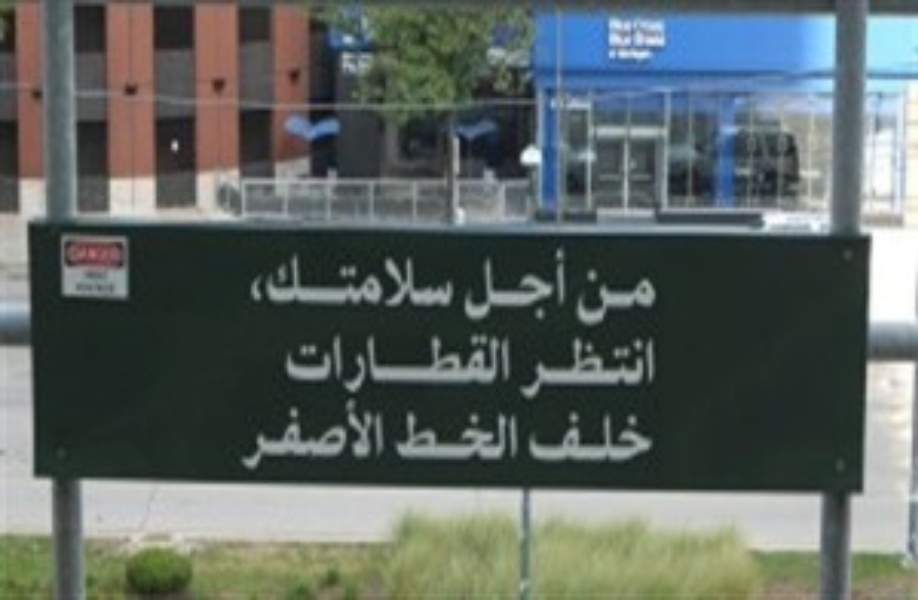text: (257, 392, 272, 475), (273, 392, 288, 475), (289, 392, 304, 475), (305, 392, 320, 475), (321, 392, 336, 475), (337, 392, 352, 475), (353, 392, 368, 475), (369, 392, 384, 475), (465, 248, 480, 322), (481, 248, 496, 322), (497, 248, 512, 322), (513, 248, 528, 322), (529, 248, 544, 322), (545, 248, 560, 322), (529, 331, 544, 402), (545, 331, 560, 402), (561, 331, 576, 402), (577, 331, 592, 402), (593, 331, 608, 402), (609, 331, 624, 402), (625, 331, 640, 402), (641, 331, 656, 402), (289, 328, 304, 392), (305, 328, 320, 392), (321, 328, 336, 392), (337, 328, 352, 392), (353, 328, 368, 392), (369, 328, 384, 392), (385, 328, 400, 392), (401, 328, 416, 392), (417, 328, 432, 392), (433, 328, 448, 392), (449, 328, 464, 392), (465, 328, 480, 392), (481, 328, 496, 392), (497, 328, 512, 392), (257, 252, 272, 313), (273, 252, 288, 313), (289, 252, 304, 313), (305, 252, 320, 313), (321, 252, 336, 313), (337, 252, 352, 313), (353, 252, 368, 313), (369, 252, 384, 313), (385, 252, 400, 313), (401, 252, 416, 313), (417, 252, 432, 313), (433, 252, 448, 313), (529, 405, 544, 463), (545, 405, 560, 463), (561, 405, 576, 463), (577, 405, 592, 463), (593, 405, 608, 463), (609, 405, 624, 463), (625, 405, 640, 463), (577, 267, 592, 325), (593, 267, 608, 325), (609, 267, 624, 325), (625, 267, 640, 325), (641, 267, 656, 325), (401, 408, 416, 463), (417, 408, 432, 463), (433, 408, 448, 463), (449, 408, 464, 463), (465, 408, 480, 463), (481, 408, 496, 463), (497, 408, 512, 463), (641, 405, 652, 463), (521, 331, 528, 402), (561, 248, 567, 322), (513, 408, 521, 463), (449, 252, 456, 313), (251, 392, 256, 475), (113, 242, 129, 267), (282, 328, 288, 392), (65, 242, 80, 267), (81, 242, 96, 267), (97, 242, 112, 267), (251, 252, 256, 313), (81, 264, 96, 282), (97, 264, 112, 282), (524, 405, 528, 463), (81, 282, 96, 294), (97, 282, 112, 294), (398, 408, 400, 463), (113, 282, 120, 294), (385, 392, 386, 475), (463, 248, 464, 322), (74, 282, 80, 294), (657, 331, 658, 402), (657, 267, 658, 325), (77, 264, 80, 282), (113, 264, 114, 282)
